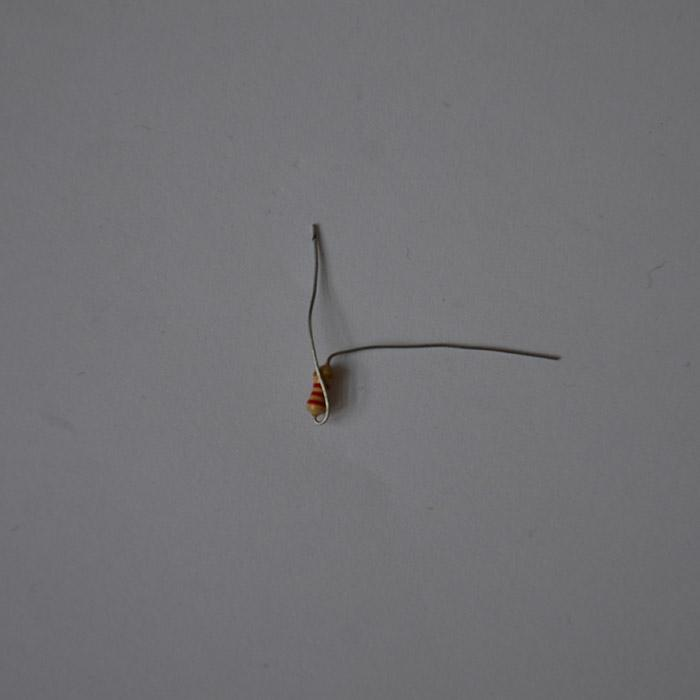resistor: (306, 367, 330, 417)
